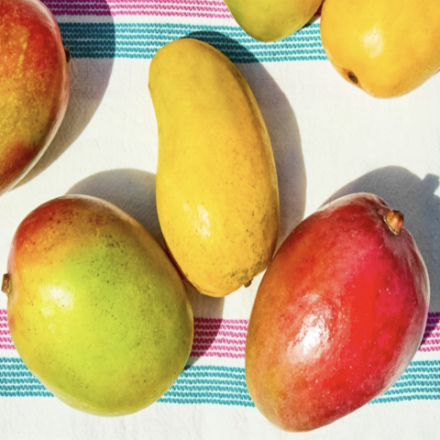mango: (230, 151, 440, 440), (0, 150, 202, 434), (139, 20, 292, 320)
